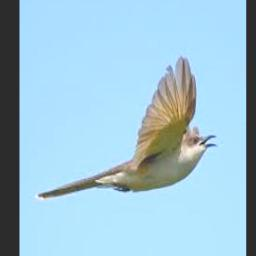Cuckoo: (36, 56, 217, 200)
